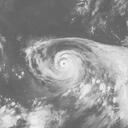cyclone: (24, 37, 97, 91)
